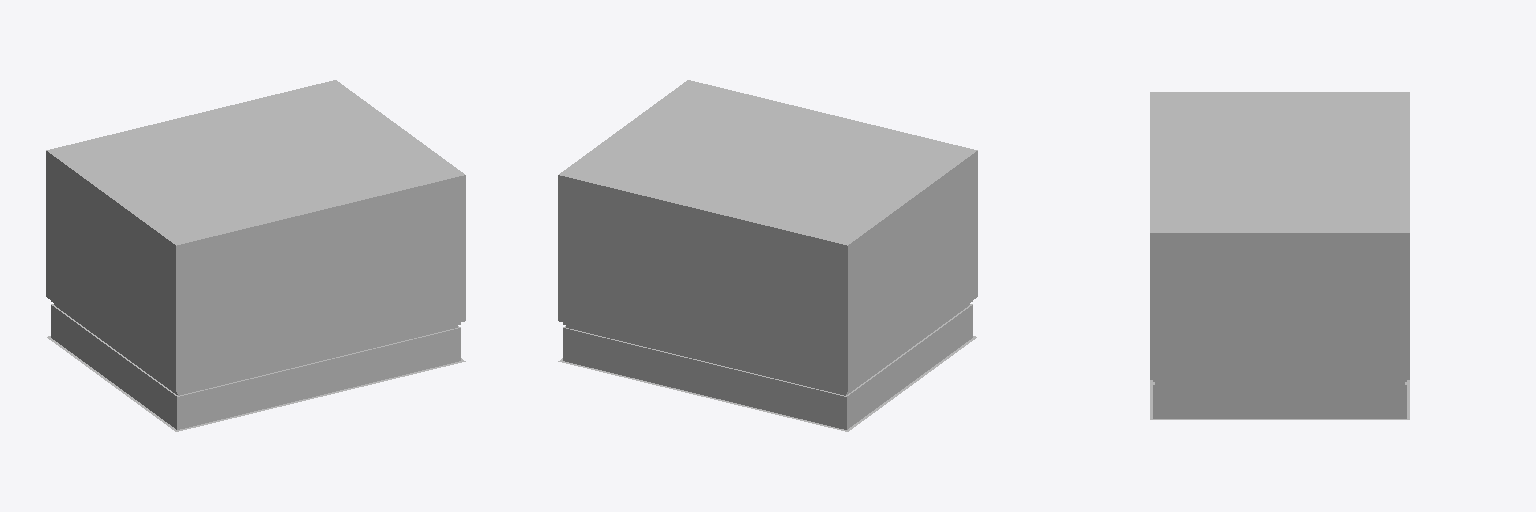
Rendered from RoyalScenary.obj.
The picture shows the model from 3 angles: view 1: azimuth 30°, elevation 25°; view 2: azimuth 150°, elevation 25°; view 3: azimuth 270°, elevation 25°; orthographic projection.
Visible parts, largest first — view 1: shipwheel2; view 2: shipwheel2; view 3: shipwheel2.
Part boxes in pixels (left/top/right/bottom): shipwheel2: left=46, top=80, right=465, bottom=431; shipwheel2: left=558, top=80, right=977, bottom=431; shipwheel2: left=1150, top=92, right=1409, bottom=419.
Bounding box in the file's own units: 5.77 × 3.55 × 4.48.